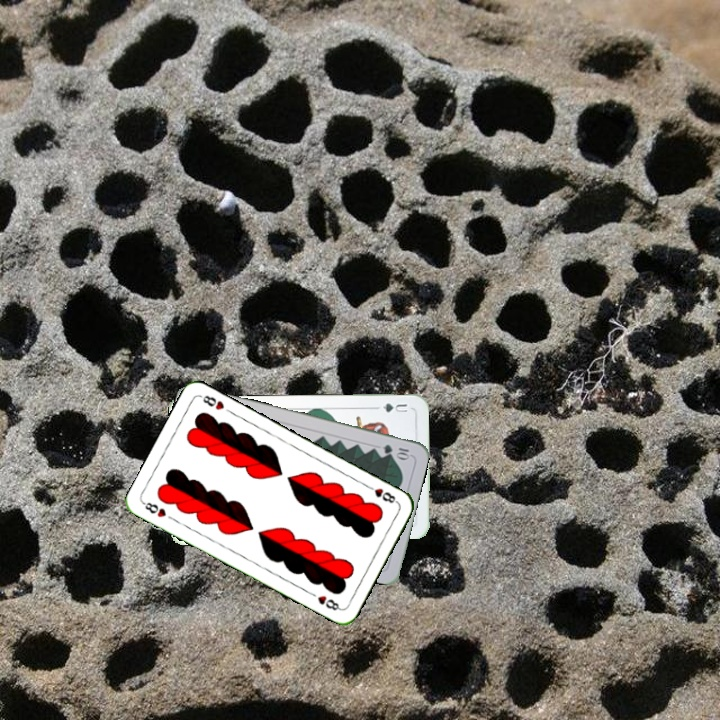G10: (379, 440, 413, 461)
GU: (378, 399, 410, 415)
H8: (362, 481, 400, 506), (139, 498, 169, 520)
